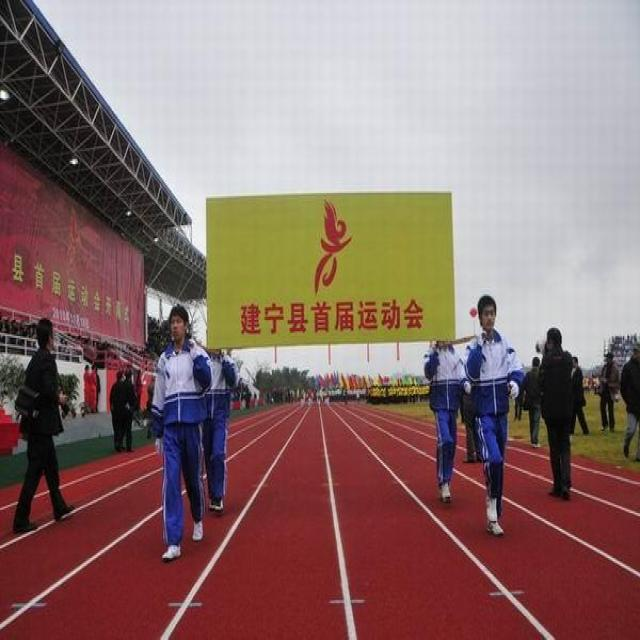non-fight: (149, 301, 211, 563), (461, 291, 517, 536), (10, 315, 69, 532), (527, 325, 582, 502), (200, 345, 241, 513), (426, 326, 463, 498), (620, 338, 639, 462), (599, 352, 620, 433)
